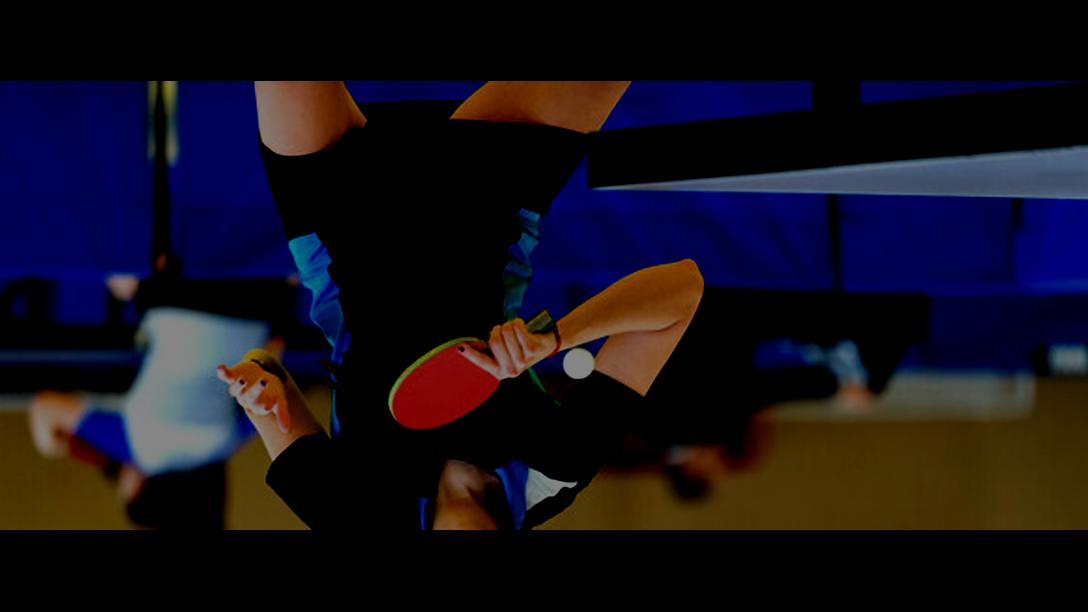Table-Tennis-Ball: (562, 350, 594, 380)
